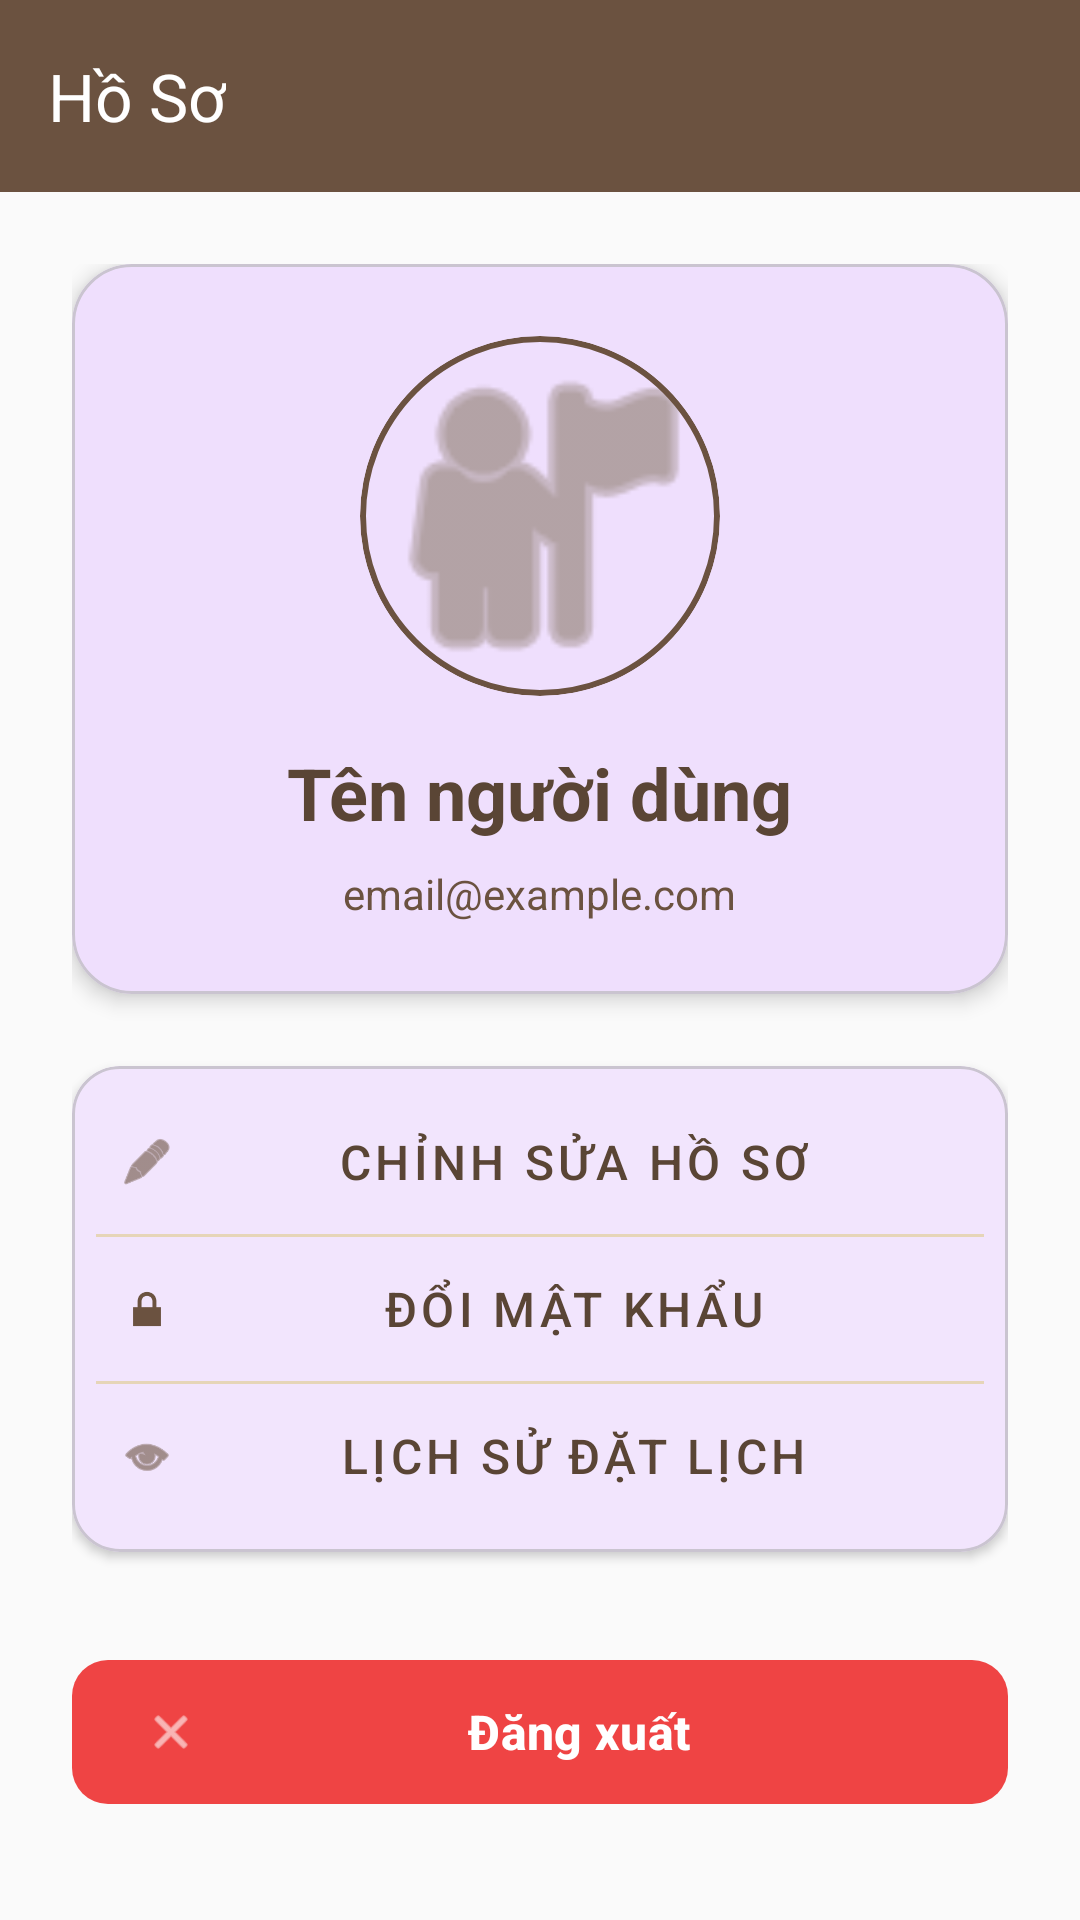

Screen size 1080px x 1920px. Icon name, then its box in pixels as region(x1, y1, x2, y2):
myplaces: region(360, 336, 720, 696)
